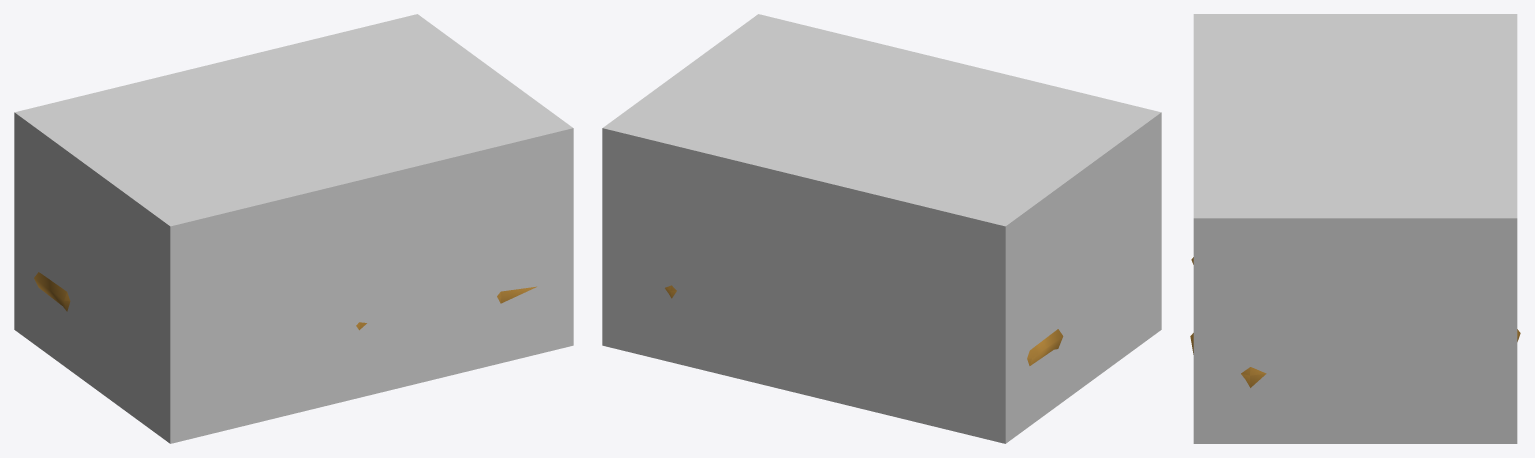
The model's file is FMS_Crate_Fill_Onion.fbx.
3 views of the same model, side by side, from view 1: azimuth 30°, elevation 25°; view 2: azimuth 150°, elevation 25°; view 3: azimuth 270°, elevation 25° (orthographic). The views are drawn at different scales.
Visible parts, largest first — view 1: Crate_Fill_Onion_Col, Crate_Fill_Onion_LOD0; view 2: Crate_Fill_Onion_Col, Crate_Fill_Onion_LOD0; view 3: Crate_Fill_Onion_Col, Crate_Fill_Onion_LOD0.
Boxes of the visible parts, x1,y1,x2,y2 form: Crate_Fill_Onion_Col: (14, 14, 573, 443); Crate_Fill_Onion_LOD0: (34, 272, 536, 330); Crate_Fill_Onion_Col: (602, 14, 1161, 443); Crate_Fill_Onion_LOD0: (665, 285, 1063, 365); Crate_Fill_Onion_Col: (1193, 14, 1517, 443); Crate_Fill_Onion_LOD0: (1190, 257, 1520, 387).
Size of what is drawn, in the model's own units: 40.47 by 20.45 by 27.12.
